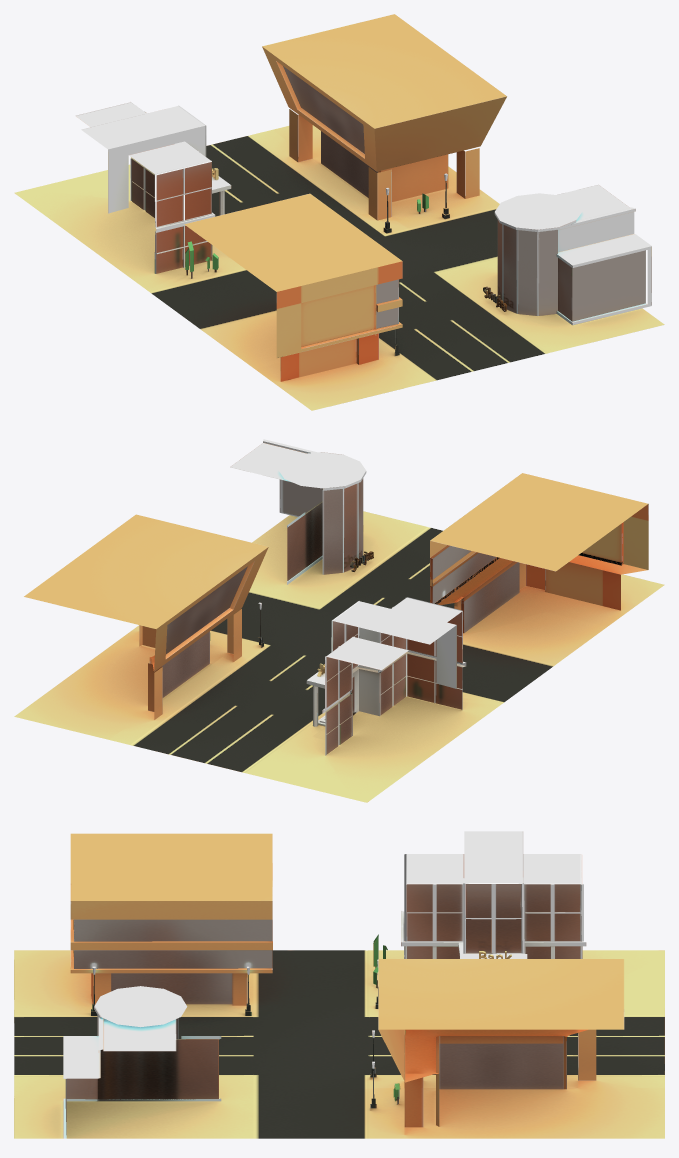
The model's file is landscape_1.glb.
3 renders of one model, top to bottom at view 1: azimuth 30°, elevation 25°; view 2: azimuth 150°, elevation 25°; view 3: azimuth 270°, elevation 25°, orthographic. The views are drawn at different scales.
Parts seen in each view (by area): view 1: landscape_1; view 2: landscape_1; view 3: landscape_1.
Boxes of the visible parts, x1,y1,x2,y2 form: landscape_1: (14, 14, 664, 410); landscape_1: (14, 439, 664, 802); landscape_1: (14, 831, 664, 1138).
Bounding box in the file's own units: 26.69 × 7.7 × 37.
1 material, 1 textured.
